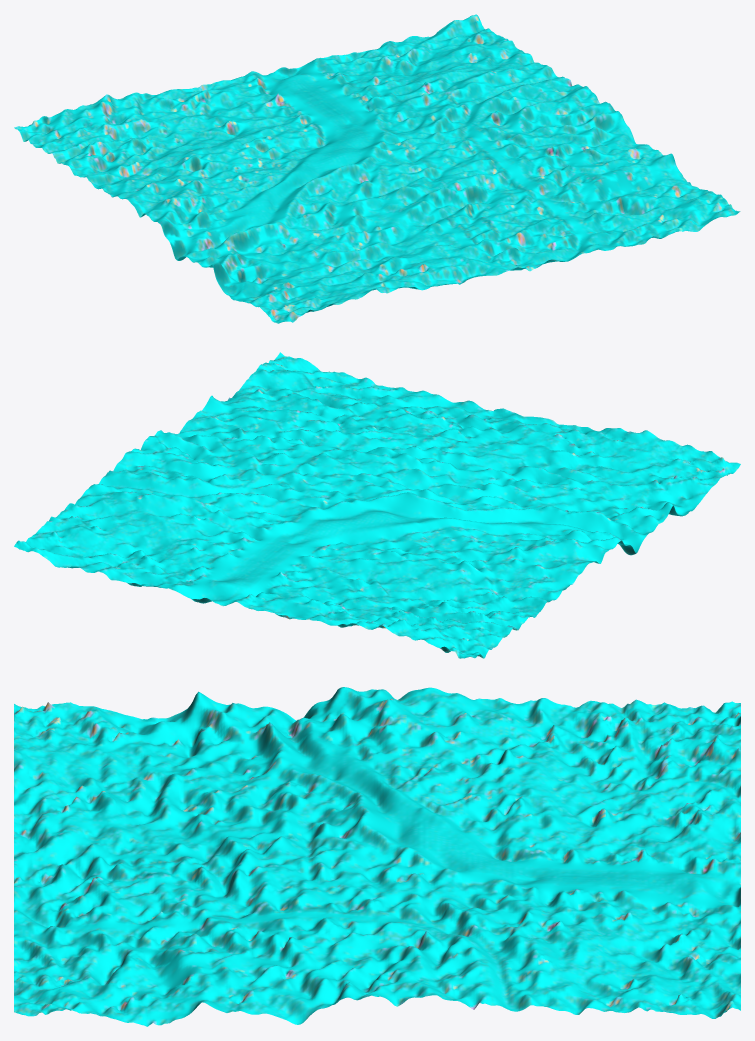
Rendered from 32_55_comparison_overlay.glb.
The picture shows the model from 3 angles, top to bottom: view 1: azimuth 30°, elevation 25°; view 2: azimuth 150°, elevation 25°; view 3: azimuth 270°, elevation 25°; orthographic projection. The views are drawn at different scales.
Parts seen in each view (by area): view 1: TerrainTile; view 2: TerrainTile; view 3: TerrainTile.
Boxes of the visible parts, <box> form: TerrainTile: <box>14,14,740,323</box>; TerrainTile: <box>14,352,740,658</box>; TerrainTile: <box>14,687,740,1026</box>.
Size of the model in its own units: 533 by 40 by 533.
Materials: 1 (1 with a texture image).
